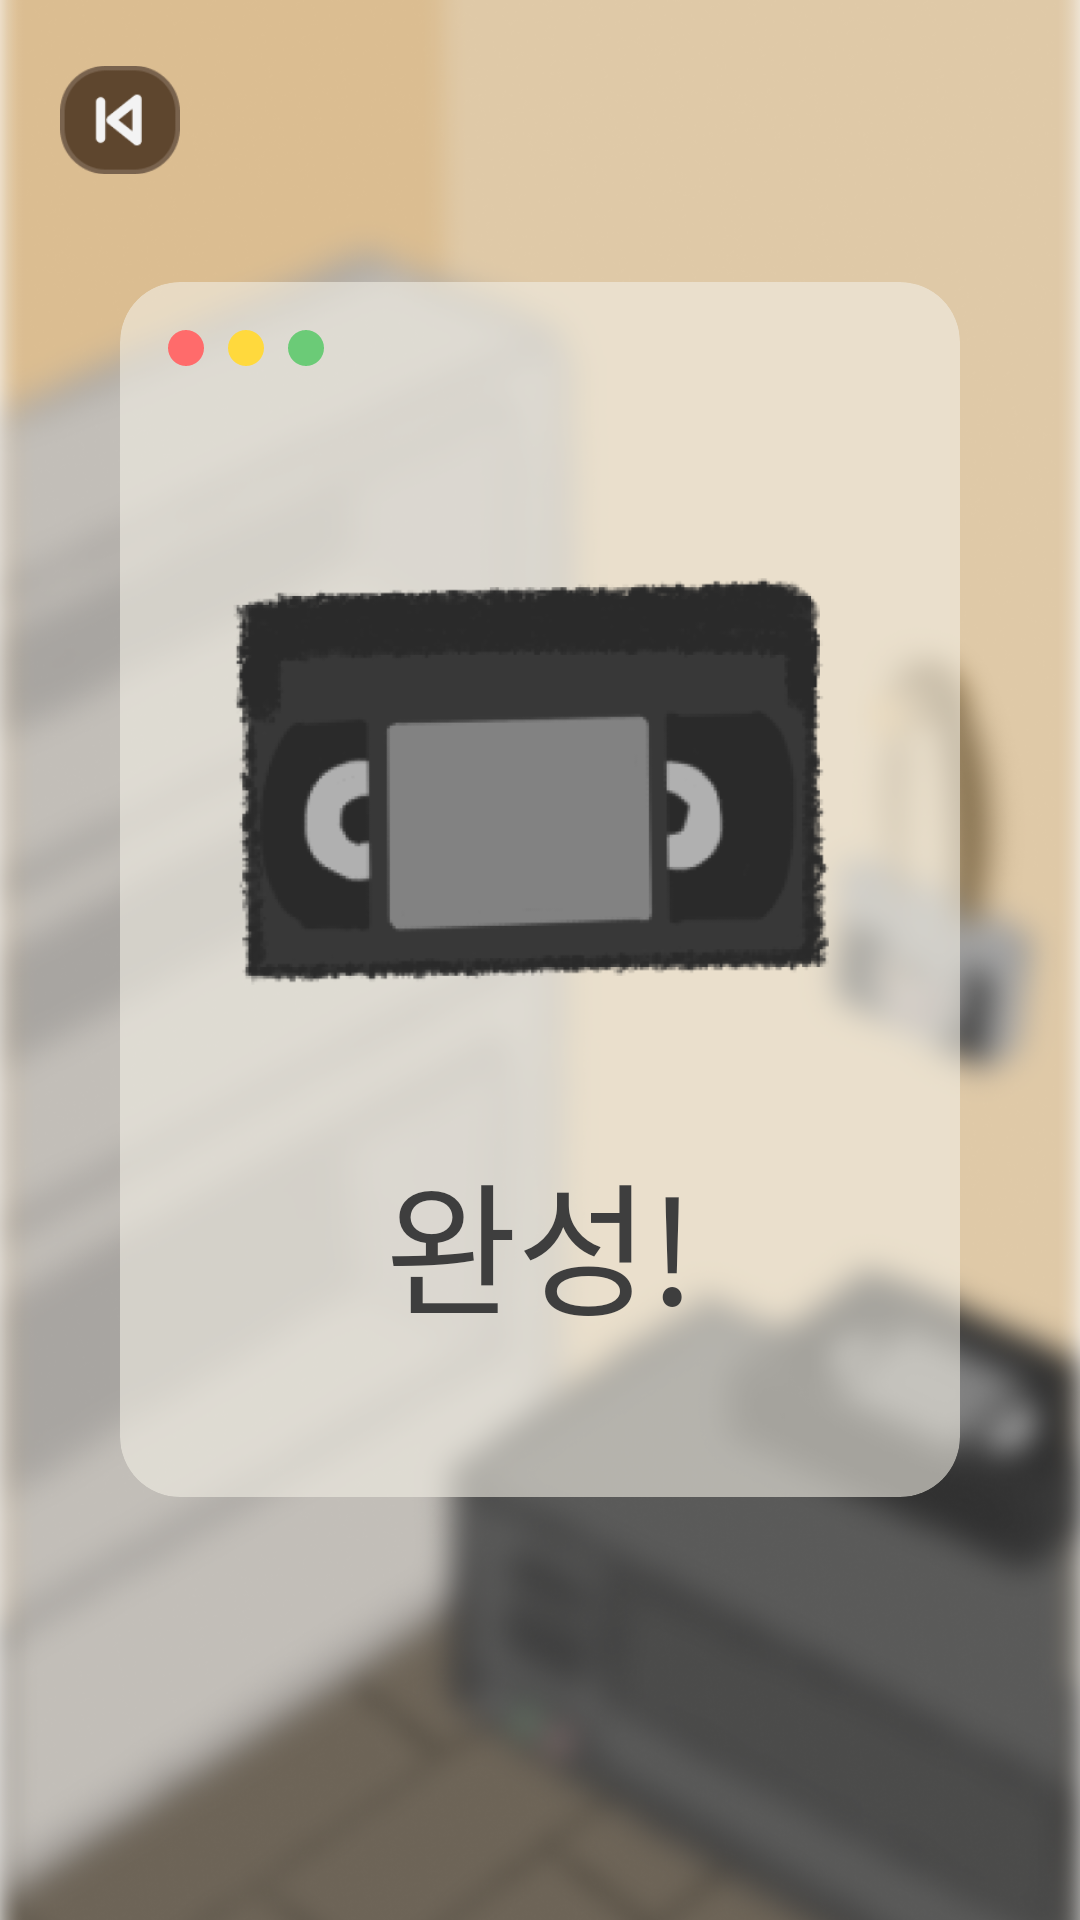

Icon click points for this 1080 × 1920 phone screenshot, format (x,y):
rewind: (120,120)
